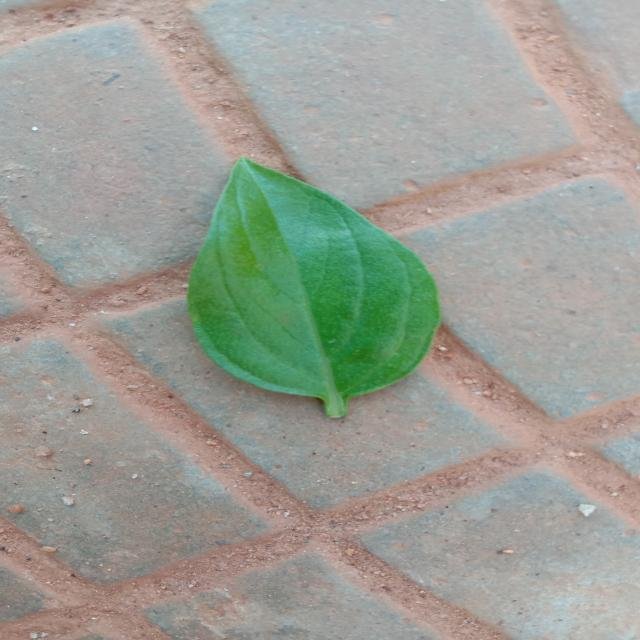kamakasturi: (188, 158, 440, 418)
